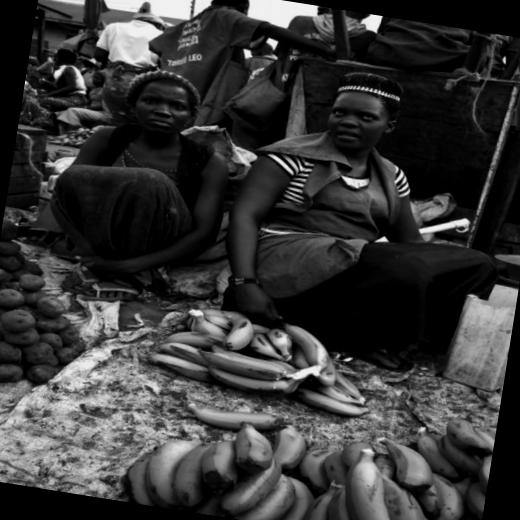Banana: (118, 368, 497, 520), (137, 296, 355, 414)
